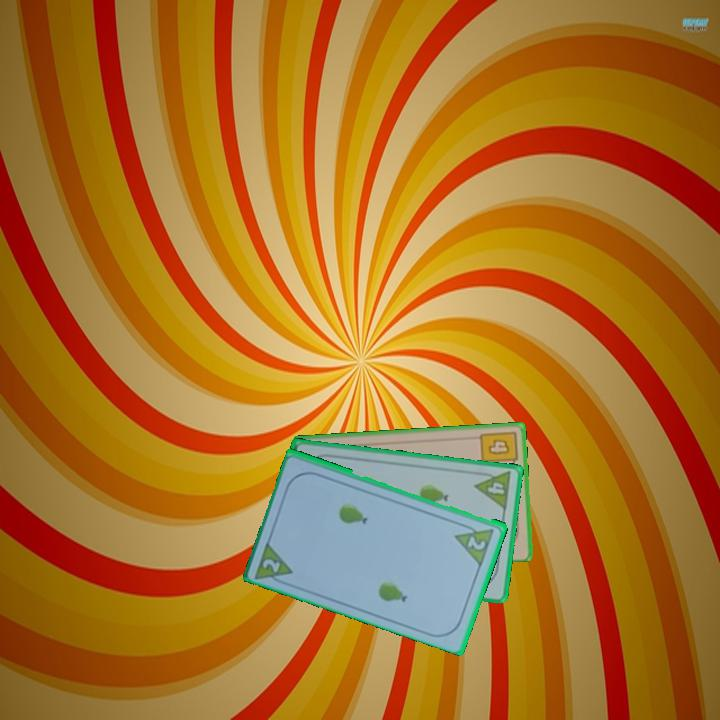2p: (464, 531, 489, 553), (259, 554, 284, 576)
4b: (477, 427, 520, 471)
4p: (471, 468, 514, 513)
